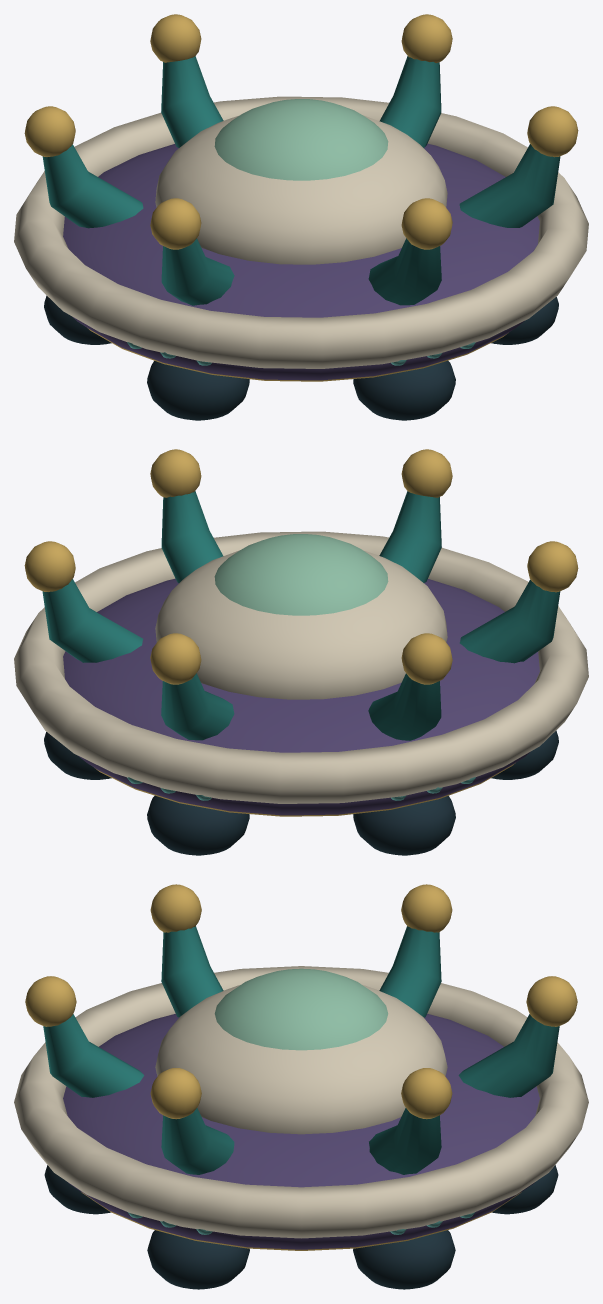
Rendered from alien-boss-lod1.glb.
3 views of the same model, one above another, from view 1: azimuth 30°, elevation 25°; view 2: azimuth 150°, elevation 25°; view 3: azimuth 270°, elevation 25° (orthographic).
Visible parts, largest first — view 1: shell; view 2: shell; view 3: shell.
Boxes of the visible parts, x1,y1,x2,y2 form: shell: [14, 14, 588, 420]; shell: [14, 449, 588, 855]; shell: [14, 884, 588, 1289].
Size of the model in its own units: 3.58 by 1.63 by 3.58.
